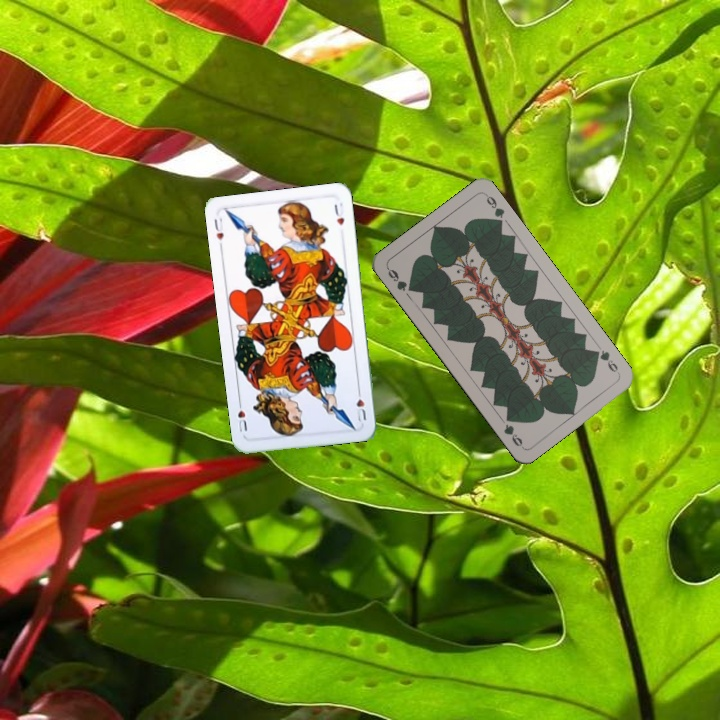G9: (383, 264, 417, 295), (589, 346, 622, 377)
HU: (352, 384, 368, 425), (210, 214, 226, 243)
